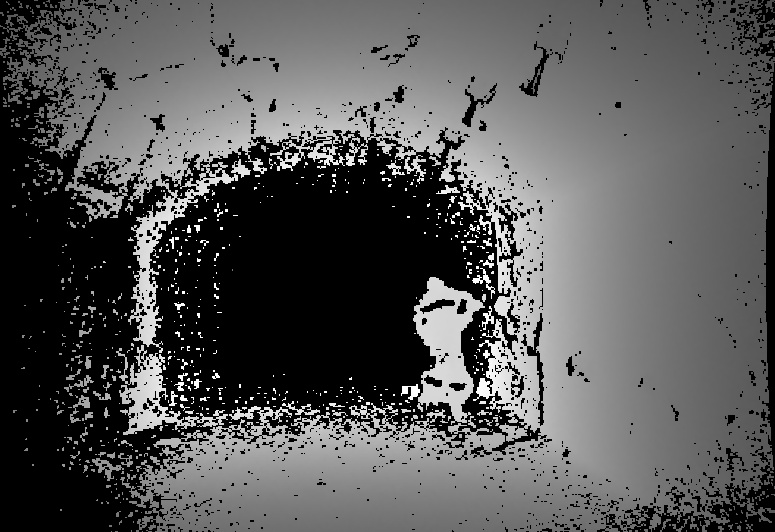person: (412, 276, 486, 419)
